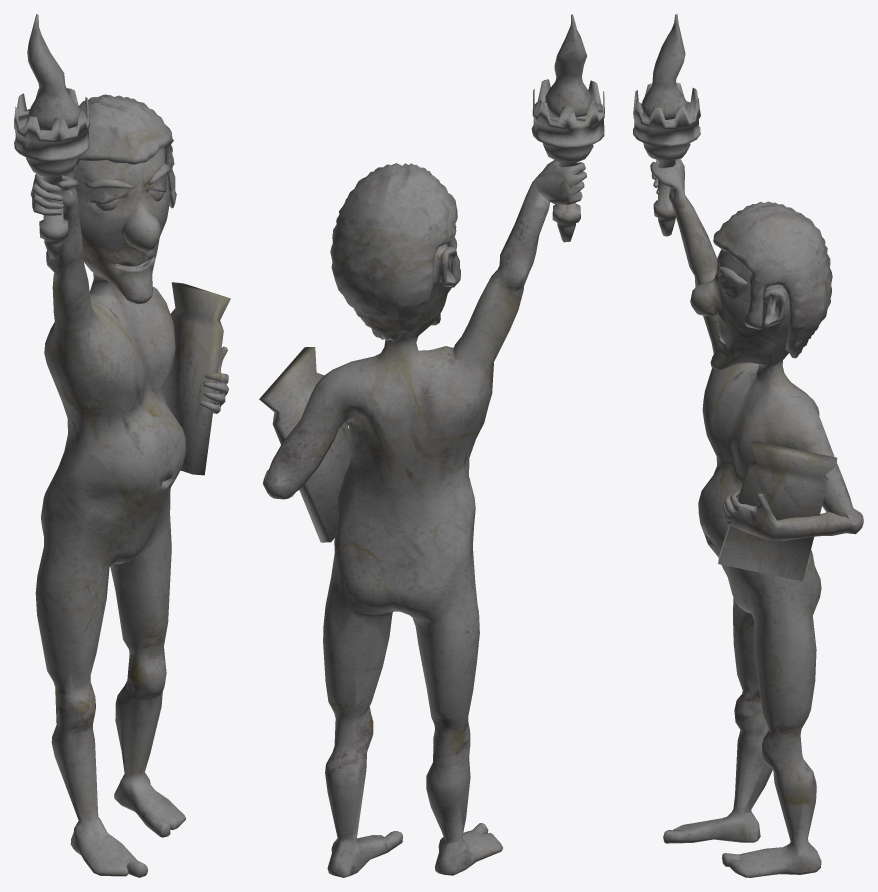
The model's file is Statue2.fbx.
The picture shows the model from 3 angles, left to right: view 1: azimuth 30°, elevation 25°; view 2: azimuth 150°, elevation 25°; view 3: azimuth 270°, elevation 25°; orthographic projection. The views are drawn at different scales.
Parts seen in each view (by area): view 1: Statue2L; view 2: Statue2L; view 3: Statue2L.
Part boxes in pixels (x1=…): Statue2L: x1=14, y1=14, x2=230, y2=877; Statue2L: x1=259, y1=14, x2=604, y2=877; Statue2L: x1=633, y1=14, x2=863, y2=877.
Size of the model in its own units: 75.09 by 243 by 64.58.
